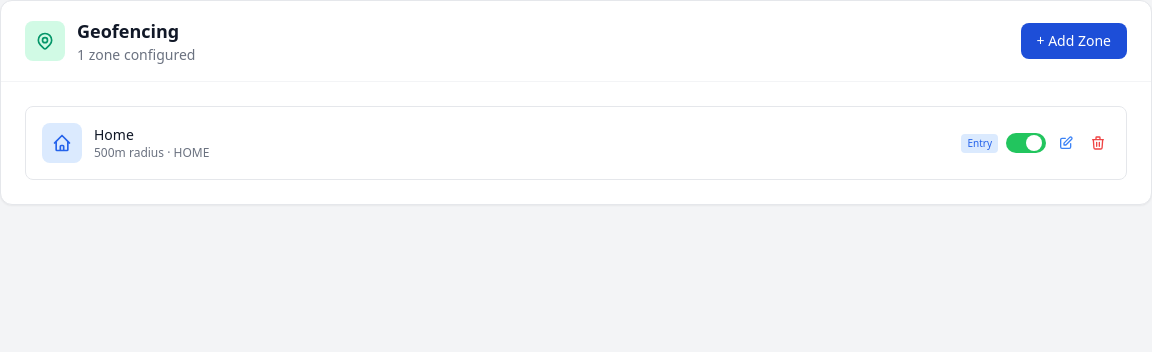
Test: GeofenceSection edit › discards changes and closes the form when cancel is clicked
Click the button named "edit home": click(1066, 143) [1054,131,1078,155]
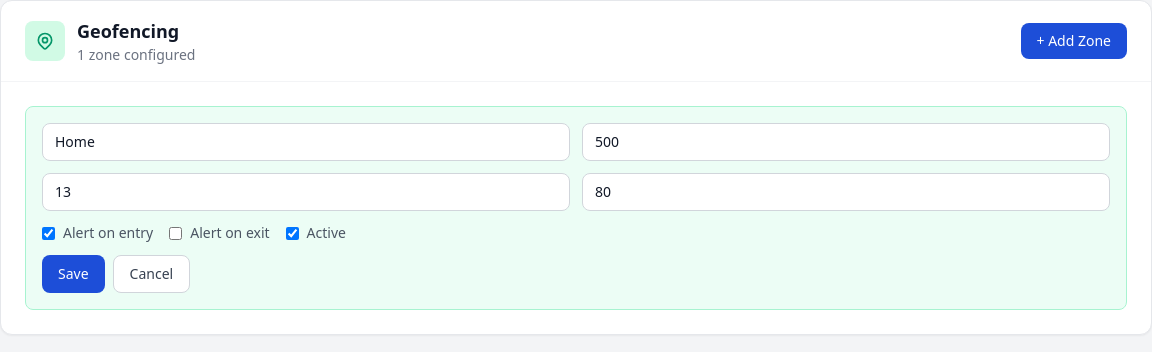
Expected: the form with test id "geofence-edit-form" is shown, [42,123,1110,293]
Replace the text in the field named "Zone name" with "Should not save": (306, 142) [42,123,570,161]
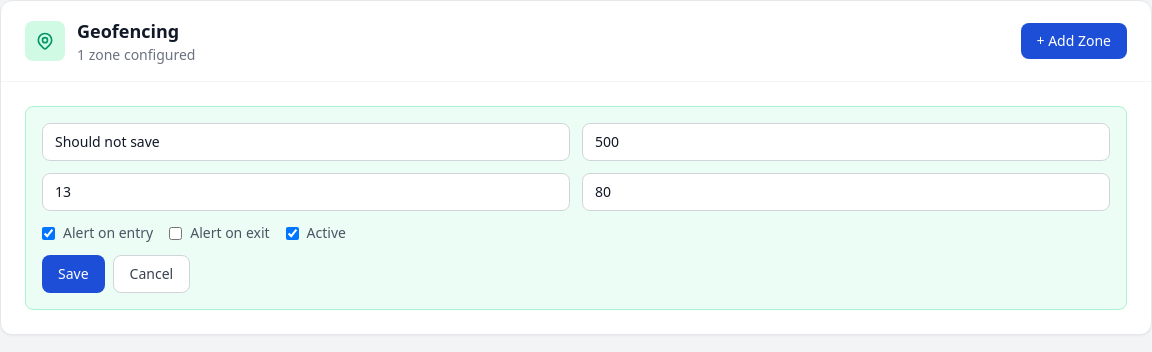
Click the button "Cancel": click(151, 274) [113,255,190,293]
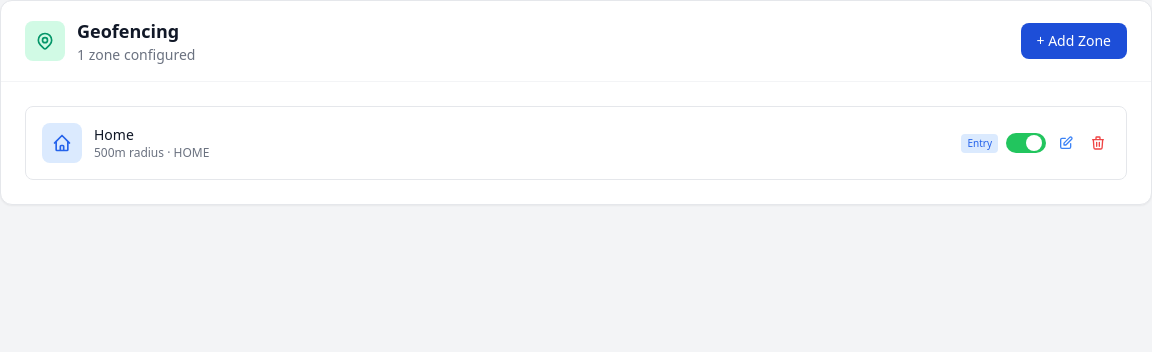
Expected: the form with test id "geofence-edit-form" is gone
